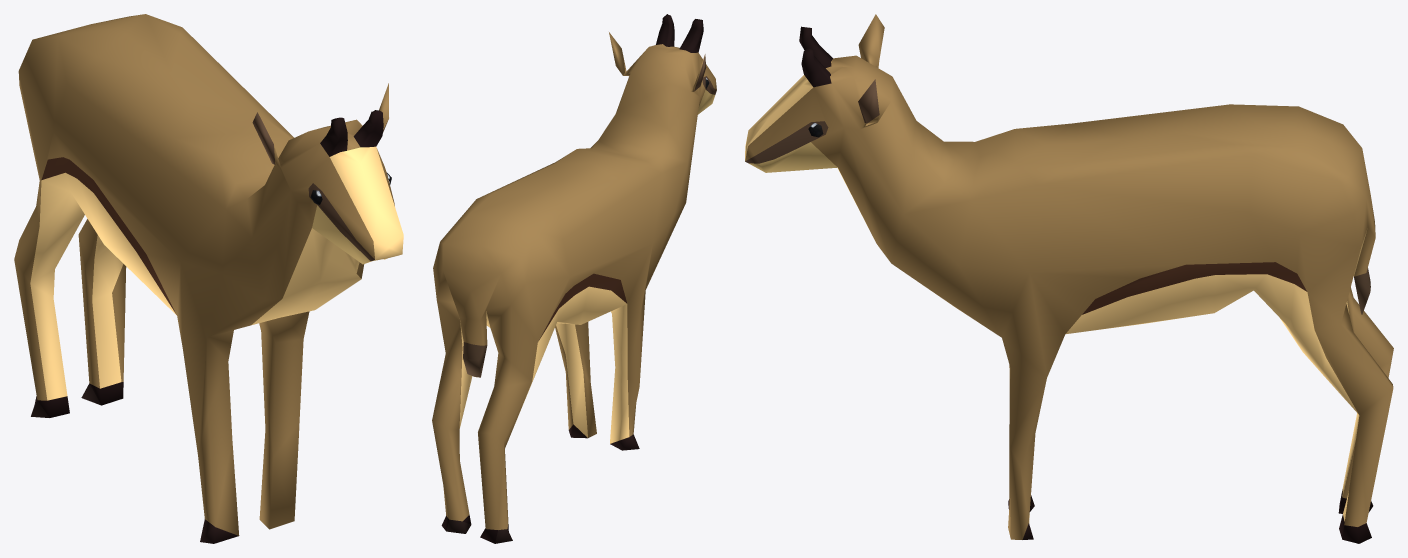
The model's file is Gazelle.glb.
The picture shows the model from 3 angles, left to right: view 1: azimuth 30°, elevation 25°; view 2: azimuth 150°, elevation 25°; view 3: azimuth 270°, elevation 25°; orthographic projection. The views are drawn at different scales.
Parts seen in each view (by area): view 1: Gazelle; view 2: Gazelle; view 3: Gazelle.
Boxes of the visible parts, x1,y1,x2,y2 form: Gazelle: [14, 14, 403, 543]; Gazelle: [432, 14, 716, 543]; Gazelle: [745, 14, 1393, 543].
Size of what is drawn, in the model's own units: 0.5298 by 1.66 by 2.01.
Materials: 1 (1 with a texture image).
